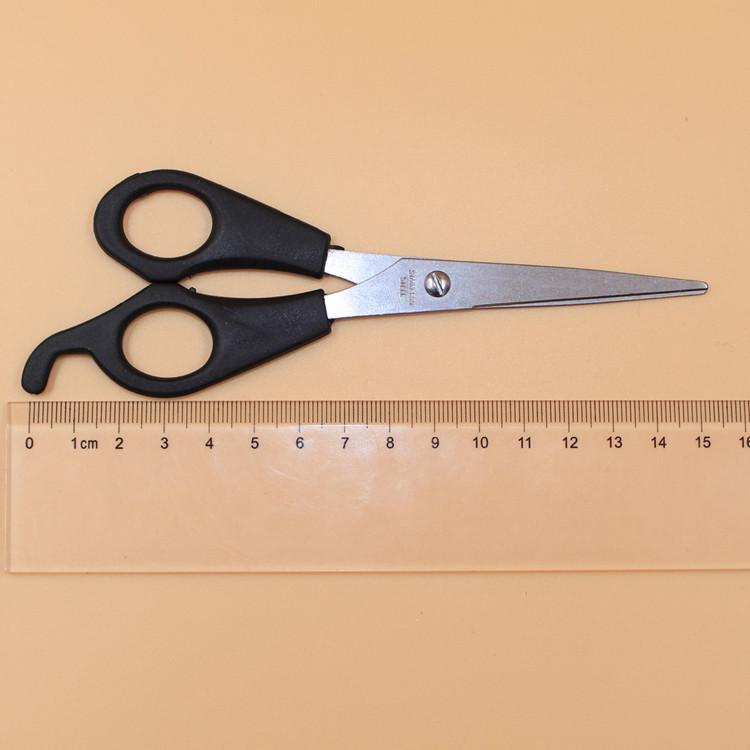scissor: (56, 145, 715, 395)
